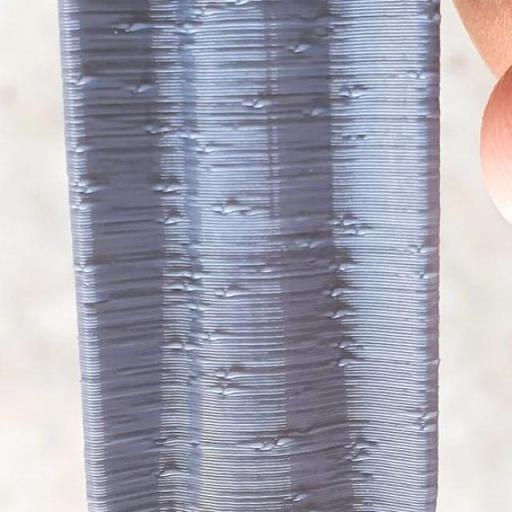blobs: (78, 174, 108, 198), (172, 15, 204, 36), (152, 180, 181, 199), (73, 140, 95, 162), (327, 280, 348, 301), (242, 94, 266, 112), (346, 82, 370, 100), (222, 284, 244, 302), (209, 382, 228, 402), (205, 327, 223, 348), (161, 214, 182, 232), (164, 336, 181, 358), (156, 465, 182, 479), (410, 68, 429, 87), (216, 200, 240, 215), (197, 142, 218, 159), (134, 82, 156, 98), (218, 381, 237, 399), (292, 38, 310, 57), (144, 122, 162, 141), (357, 224, 379, 239), (351, 453, 373, 468), (407, 242, 429, 257), (332, 305, 351, 322), (247, 440, 268, 455), (350, 439, 372, 453), (73, 71, 95, 85), (338, 258, 356, 275), (289, 489, 307, 506), (337, 212, 356, 228), (273, 431, 293, 446), (332, 358, 355, 371), (183, 128, 204, 142), (184, 337, 200, 355), (78, 258, 96, 274), (303, 109, 327, 120), (224, 367, 244, 380), (187, 300, 205, 314), (210, 366, 227, 380), (332, 340, 355, 350), (182, 284, 201, 294), (186, 268, 204, 278)
